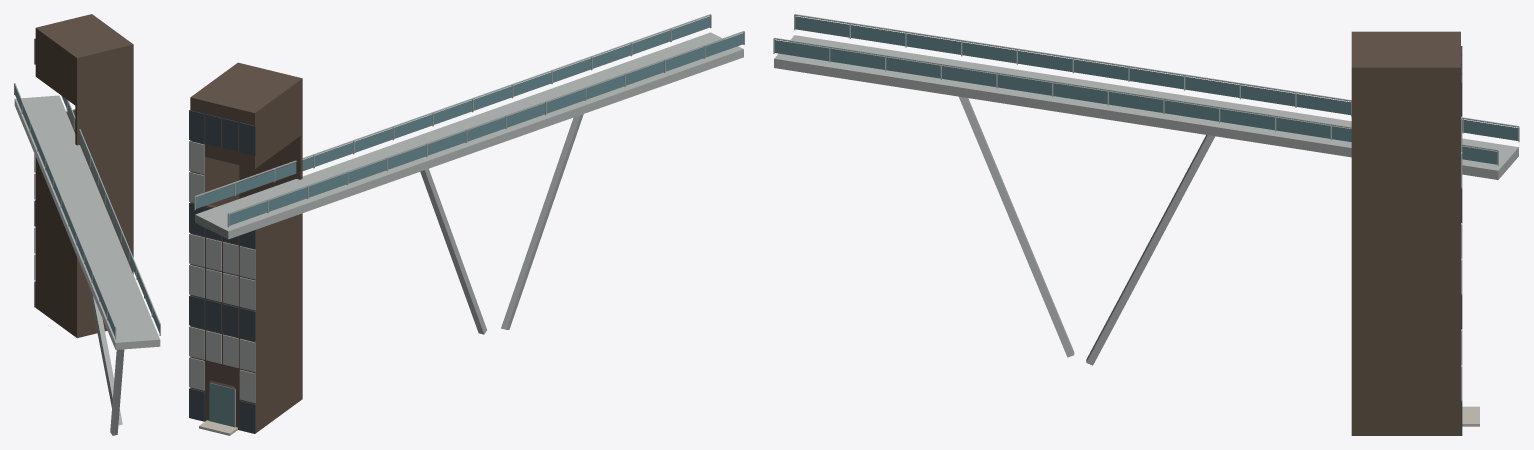
3 renders of one model, left to right at view 1: azimuth 30°, elevation 25°; view 2: azimuth 150°, elevation 25°; view 3: azimuth 270°, elevation 25°, orthographic. The views are drawn at different scales.
Parts seen in each view (by area): view 1: haedong78Tower__tower, haedong78Tower__bridgeDeck, haedong78Tower__glass, haedong78Tower__bridgeRail, haedong78Tower__panels; view 2: haedong78Tower__tower, haedong78Tower__bridgeDeck, haedong78Tower__panels, haedong78Tower__glass, haedong78Tower__bridgeRail; view 3: haedong78Tower__tower, haedong78Tower__bridgeDeck, haedong78Tower__glass, haedong78Tower__bridgeRail, haedong78Tower__panels.
Part boxes in pixels (bbox=[...]): haedong78Tower__tower: bbox=[35, 14, 133, 338]; haedong78Tower__bridgeDeck: bbox=[14, 95, 160, 435]; haedong78Tower__glass: bbox=[15, 86, 159, 336]; haedong78Tower__bridgeRail: bbox=[14, 83, 160, 339]; haedong78Tower__panels: bbox=[34, 38, 35, 307]; haedong78Tower__tower: bbox=[190, 62, 302, 432]; haedong78Tower__bridgeDeck: bbox=[195, 32, 743, 334]; haedong78Tower__panels: bbox=[189, 110, 255, 433]; haedong78Tower__glass: bbox=[196, 16, 743, 427]; haedong78Tower__bridgeRail: bbox=[194, 14, 744, 227]; haedong78Tower__tower: bbox=[1351, 31, 1460, 435]; haedong78Tower__bridgeDeck: bbox=[774, 35, 1518, 365]; haedong78Tower__glass: bbox=[774, 16, 1518, 164]; haedong78Tower__bridgeRail: bbox=[773, 14, 1519, 165]; haedong78Tower__panels: bbox=[1461, 46, 1462, 435].
Bounding box in the file's own units: 18.81 × 21.89 × 40.03.
